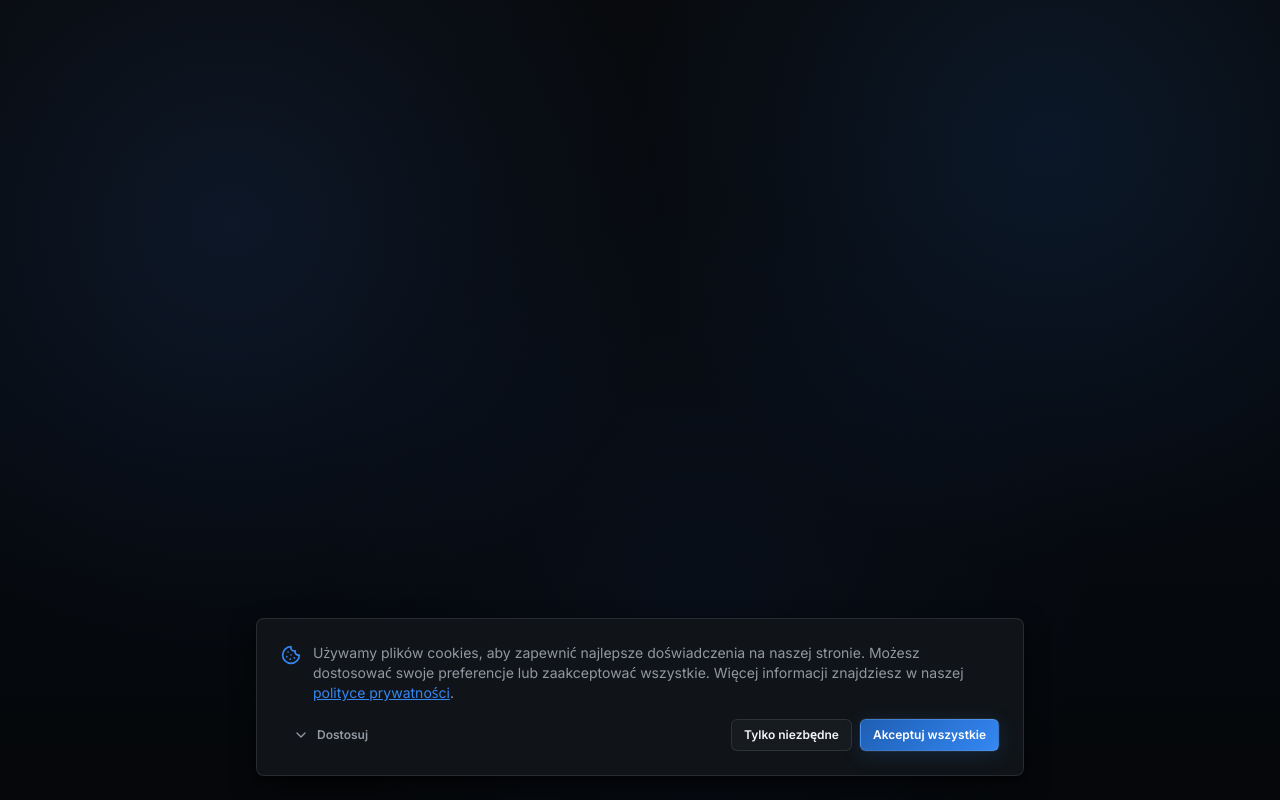
CookieConsent a11y (WCAG 4.1.2, 2.1.2) › Escape in the dialog returns to the banner when no consent was saved
Click the button "Dostosuj".
click(331, 735)  # box x1=281 y1=719 x2=380 y2=751
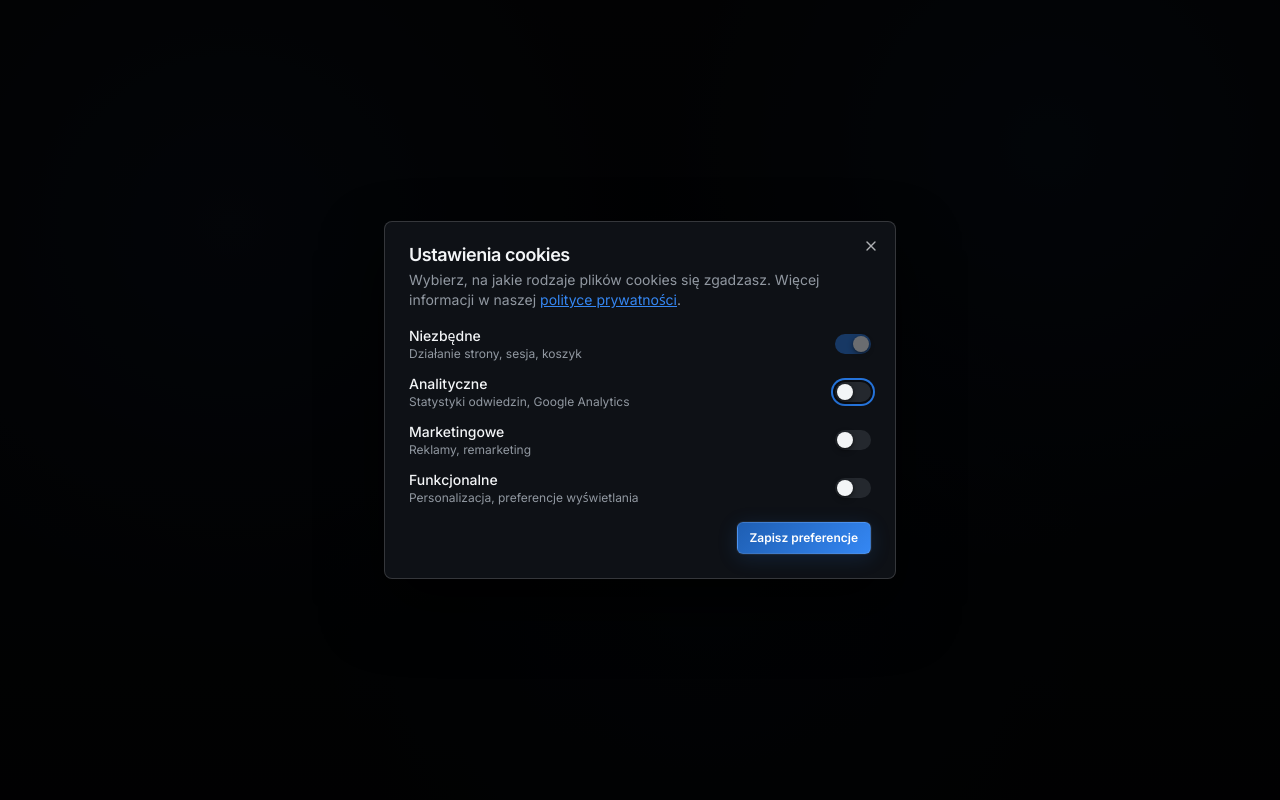
Press Escape
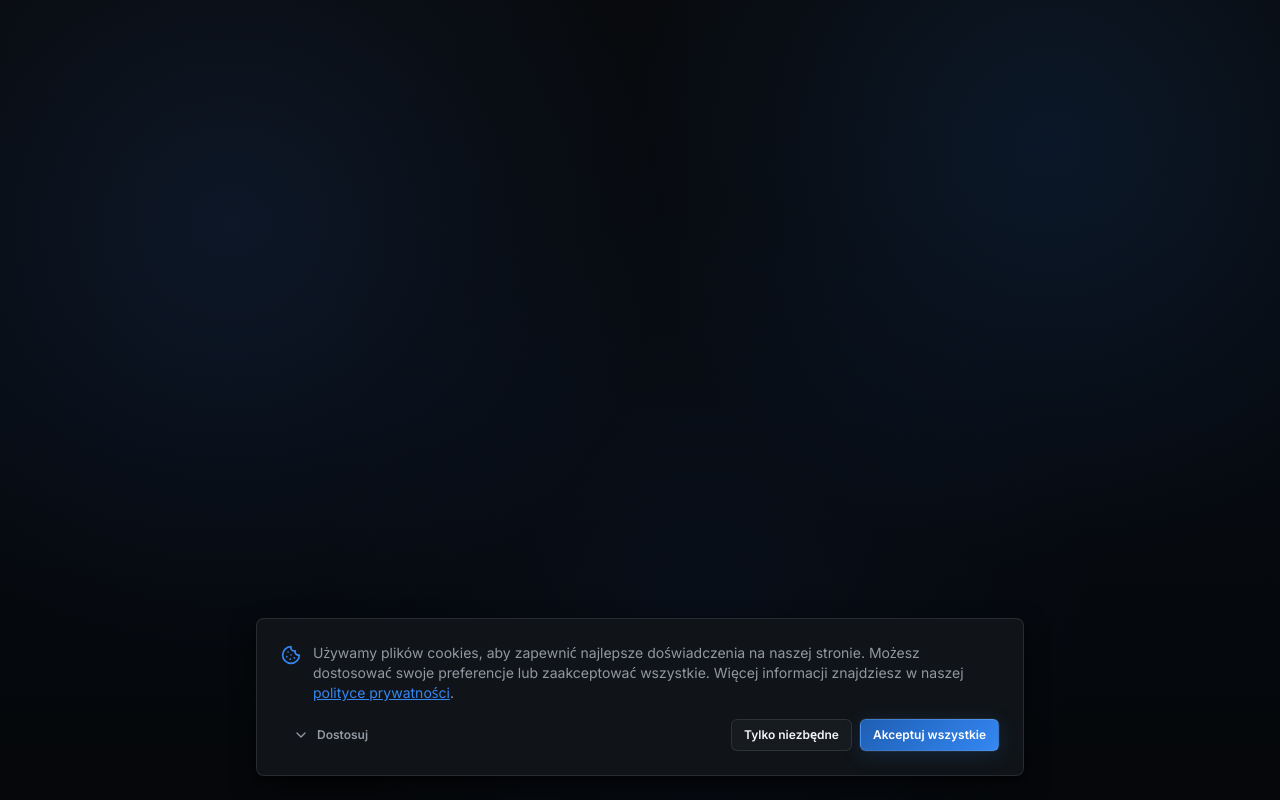
Check: the dialog is gone
Check: the element named "Zgoda na pliki cookies" is shown, box x1=256 y1=618 x2=1024 y2=776
